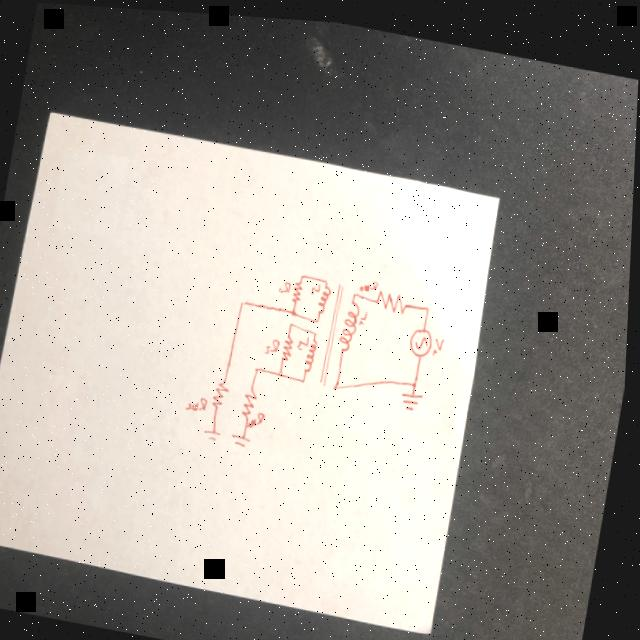ground: (402, 382, 429, 408), (233, 428, 257, 445), (207, 424, 226, 439)
junction: (300, 267, 308, 278), (242, 294, 250, 304), (280, 365, 288, 375), (354, 284, 362, 294), (323, 270, 331, 280), (294, 302, 301, 313), (336, 376, 343, 387), (427, 298, 434, 308), (414, 373, 421, 383), (257, 360, 264, 370), (315, 312, 323, 320), (313, 326, 321, 334), (302, 373, 310, 381), (291, 316, 298, 325)
resistor: (376, 283, 412, 310), (214, 372, 235, 409), (244, 381, 263, 415), (284, 328, 298, 359), (294, 275, 307, 301)
source: (409, 319, 438, 353)
text: (187, 390, 212, 411), (249, 404, 270, 427), (361, 272, 383, 289), (280, 272, 297, 293), (268, 330, 284, 352), (299, 327, 314, 348), (435, 329, 447, 352), (311, 274, 325, 292), (360, 303, 372, 320)
transformer: (304, 272, 368, 390)
